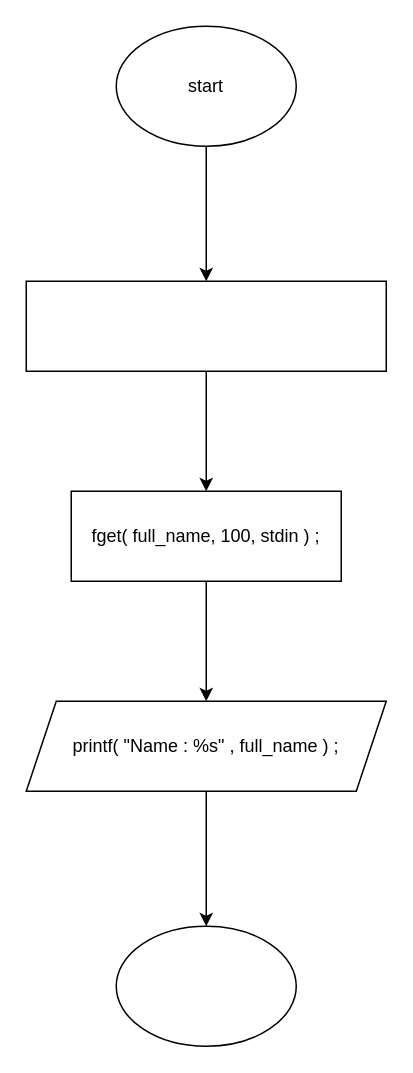
The diagram is 413 pixels wide and 1073 high, and some of its shapes have lost their labels. The box of each missing label's shape, as (x1, y1, x2, y2) in pixels:
end: (115, 925, 296, 1046)
สร้างตัวแปร char full_name [ 100 ]: (25, 280, 386, 371)
